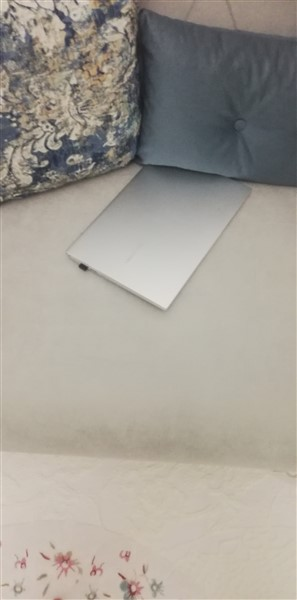laptop: (64, 148, 260, 321)
